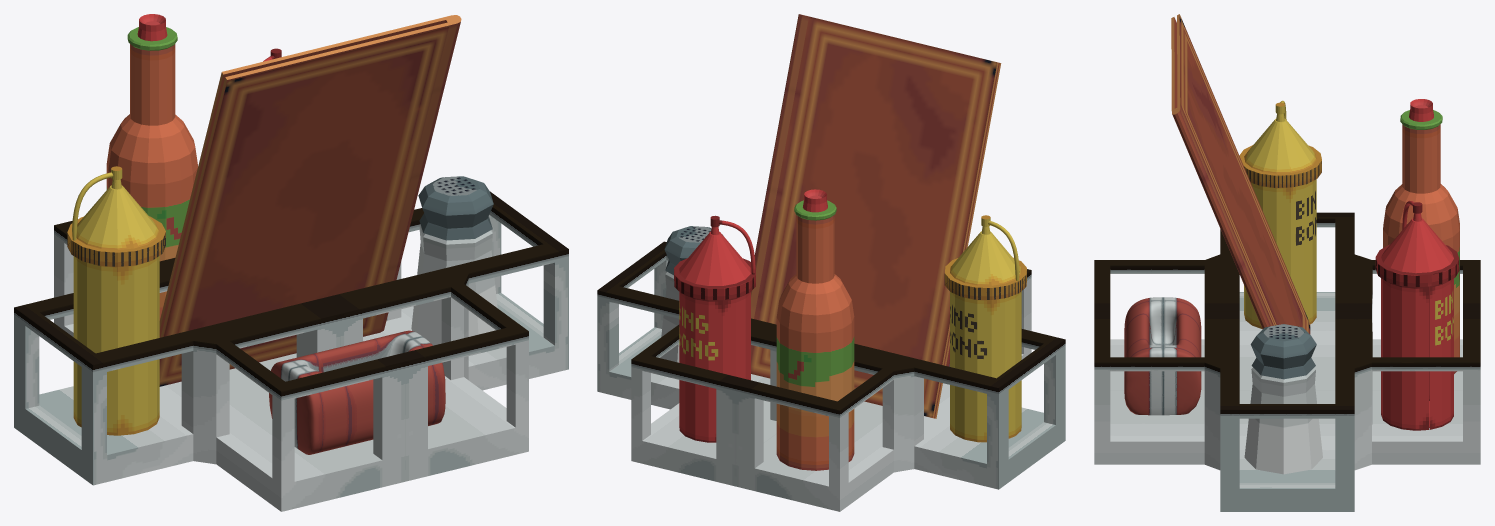
File: Condimentosprontos.fbx
3 renders of one model, left to right at view 1: azimuth 30°, elevation 25°; view 2: azimuth 150°, elevation 25°; view 3: azimuth 270°, elevation 25°, orthographic. The views are drawn at different scales.
Visible parts, largest first — view 1: Cube.001, Plane, Mostarda, Pimenta, Cube.002, Saleiro; view 2: Plane, Cube.001, Pimenta, Mostarda, Ketchup, Saleiro; view 3: Cube.001, Ketchup, Plane, Mostarda, Saleiro, Cube.002, Pimenta.
Boxes of the visible parts, <box> form: Cube.001: <box>14,191,568,511</box>; Plane: <box>159,15,461,386</box>; Mostarda: <box>67,172,165,435</box>; Pimenta: <box>106,14,197,320</box>; Cube.002: <box>269,330,445,454</box>; Saleiro: <box>411,176,497,345</box>; Plane: <box>751,14,1001,418</box>; Cube.001: <box>597,241,1065,511</box>; Pimenta: <box>776,189,854,470</box>; Mostarda: <box>944,221,1026,442</box>; Ketchup: <box>674,215,755,442</box>; Saleiro: <box>660,226,723,362</box>; Cube.001: <box>1094,212,1480,511</box>; Ketchup: <box>1375,200,1459,430</box>; Plane: <box>1171,14,1310,334</box>; Mostarda: <box>1239,100,1321,328</box>; Saleiro: <box>1244,324,1322,474</box>; Cube.002: <box>1124,297,1201,415</box>; Pimenta: <box>1383,99,1459,373</box>.
Bounding box in the file's own units: 473 × 386 × 392.
Materials: 7 (7 with a texture image).
